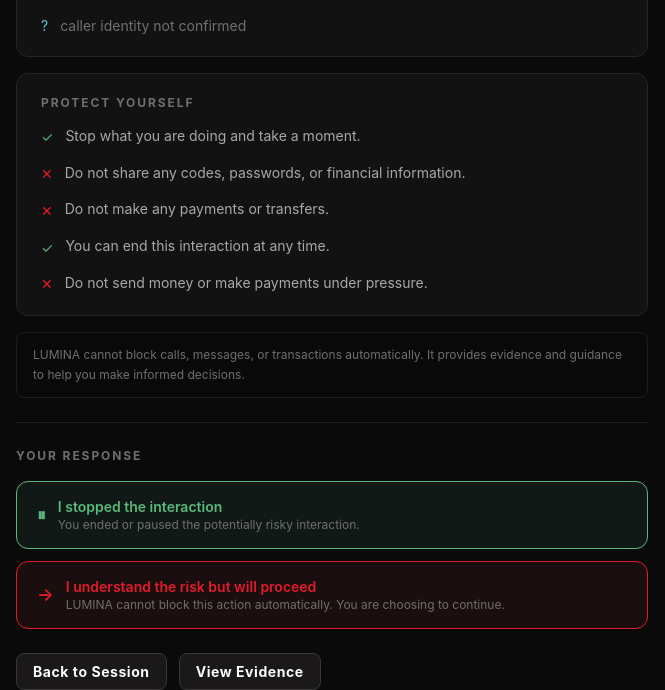
PausePage › submits pause response
The width and height of the screenshot is (665, 690).
(page scrolled)
Click the button "stopped the interaction". click: (332,515)
box: [16,481,648,549]
(page scrolled)
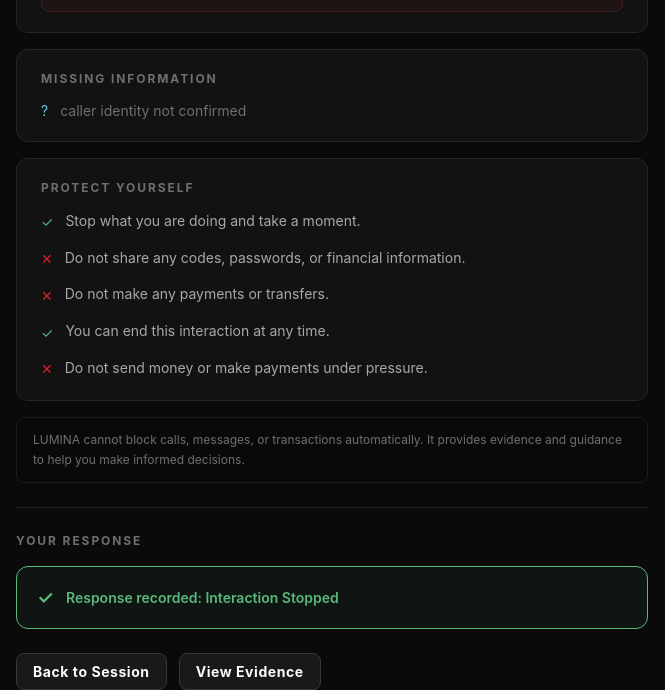
Check: the text "Response recorded: Interaction Stopped" is shown, box [66,587,339,608]
